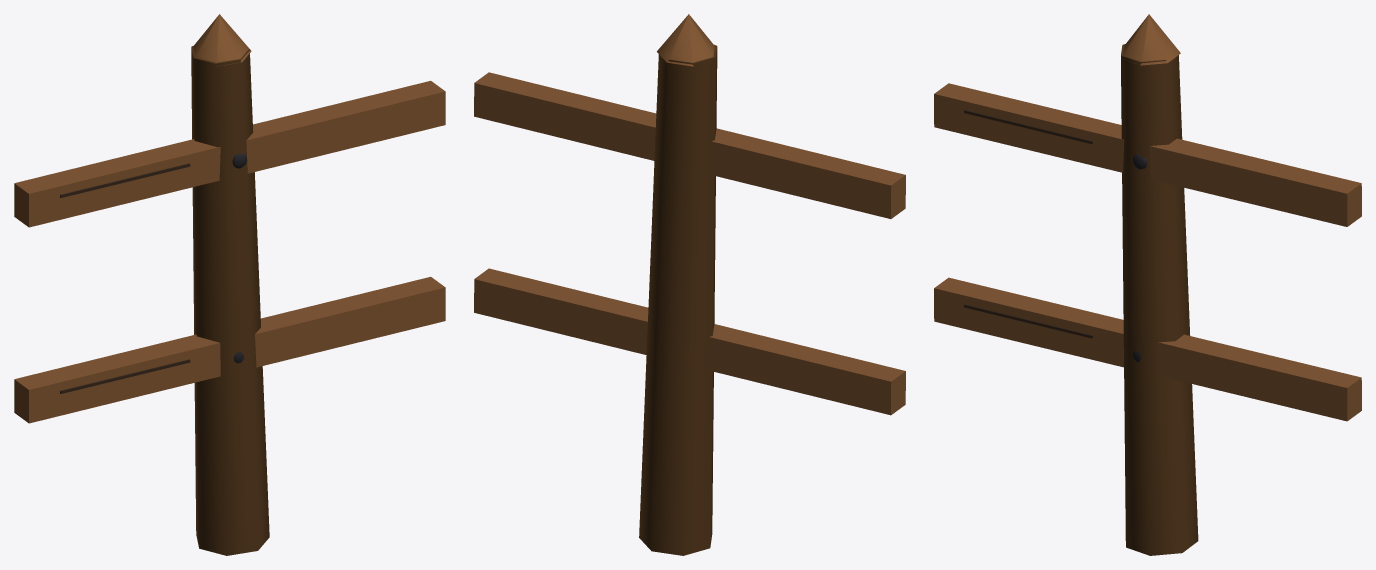
File: mia-fence.glb
3 views of the same model, side by side, from view 1: azimuth 30°, elevation 25°; view 2: azimuth 150°, elevation 25°; view 3: azimuth 330°, elevation 25° (orthographic).
Visible parts, largest first — view 1: Body_oak, Body_wood, Body_grain; view 2: Body_oak, Body_wood; view 3: Body_oak, Body_wood, Body_grain.
Part boxes in pixels (bbox=[...]): Body_oak: bbox=[14, 14, 445, 423]; Body_wood: bbox=[191, 46, 269, 555]; Body_grain: bbox=[60, 163, 190, 393]; Body_oak: bbox=[474, 14, 905, 415]; Body_wood: bbox=[639, 44, 717, 555]; Body_oak: bbox=[934, 14, 1361, 421]; Body_wood: bbox=[1121, 44, 1198, 555]; Body_grain: bbox=[964, 110, 1092, 338].
Bounding box in the file's own units: 0.9992 × 1.21 × 0.154.
